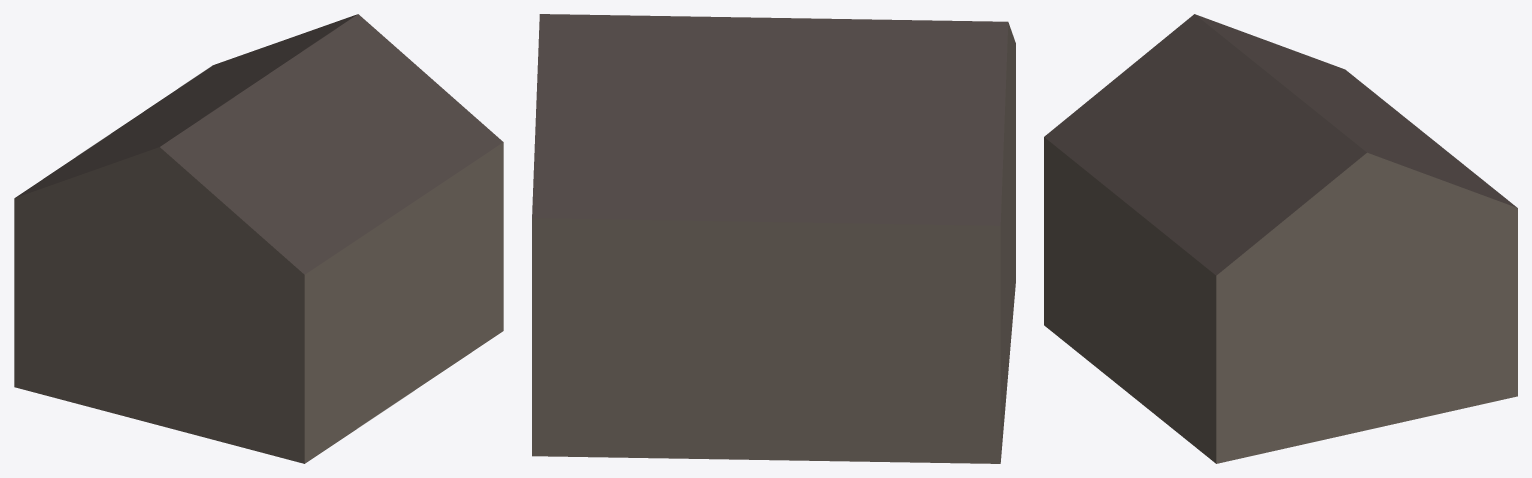
3 renders of one model, left to right at view 1: azimuth 30°, elevation 25°; view 2: azimuth 150°, elevation 25°; view 3: azimuth 270°, elevation 25°, orthographic. The views are drawn at different scales.
Parts seen in each view (by area): view 1: HP-w369237950; view 2: HP-w369237950; view 3: HP-w369237950.
Part boxes in pixels (x1=…): HP-w369237950: x1=14, y1=14, x2=503, y2=463; HP-w369237950: x1=532, y1=14, x2=1015, y2=463; HP-w369237950: x1=1044, y1=14, x2=1517, y2=463.
Size of the model in its own units: 14.1 by 8.85 by 13.69.
